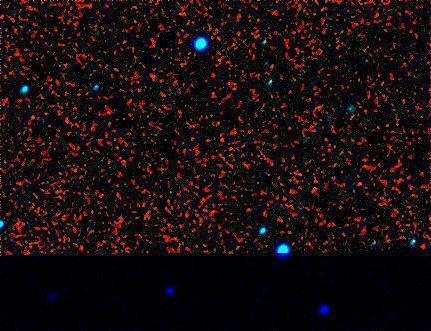star: (89, 53, 119, 83)
